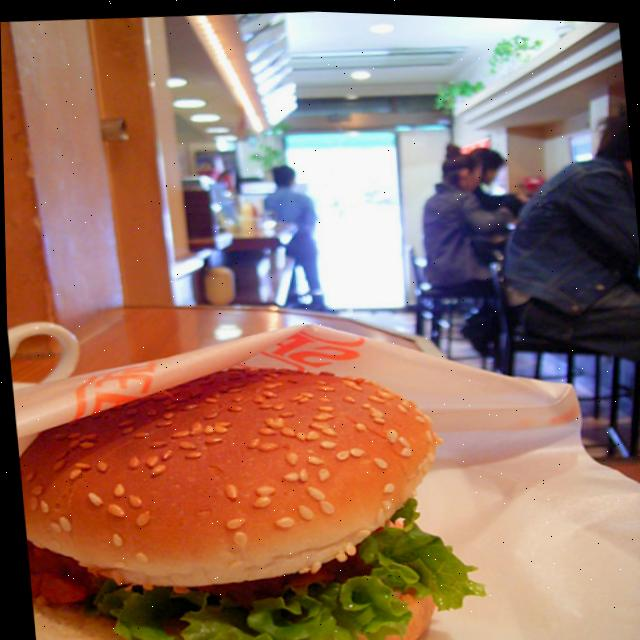汉堡快餐: (8, 329, 481, 640)
